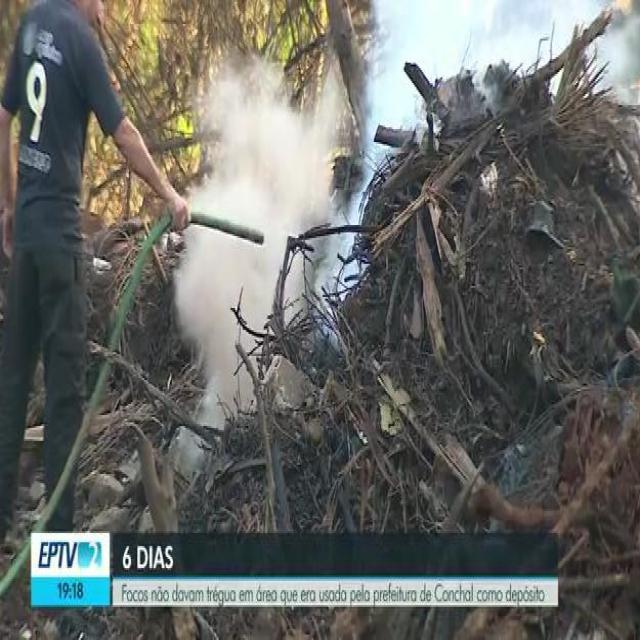Smoke: (163, 55, 340, 452), (352, 4, 640, 146), (303, 184, 380, 300)
